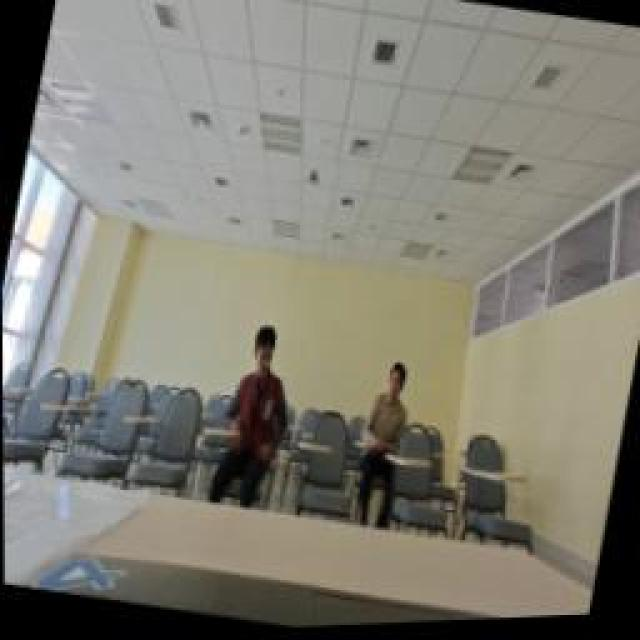study: (220, 320, 305, 445), (355, 358, 417, 458)
